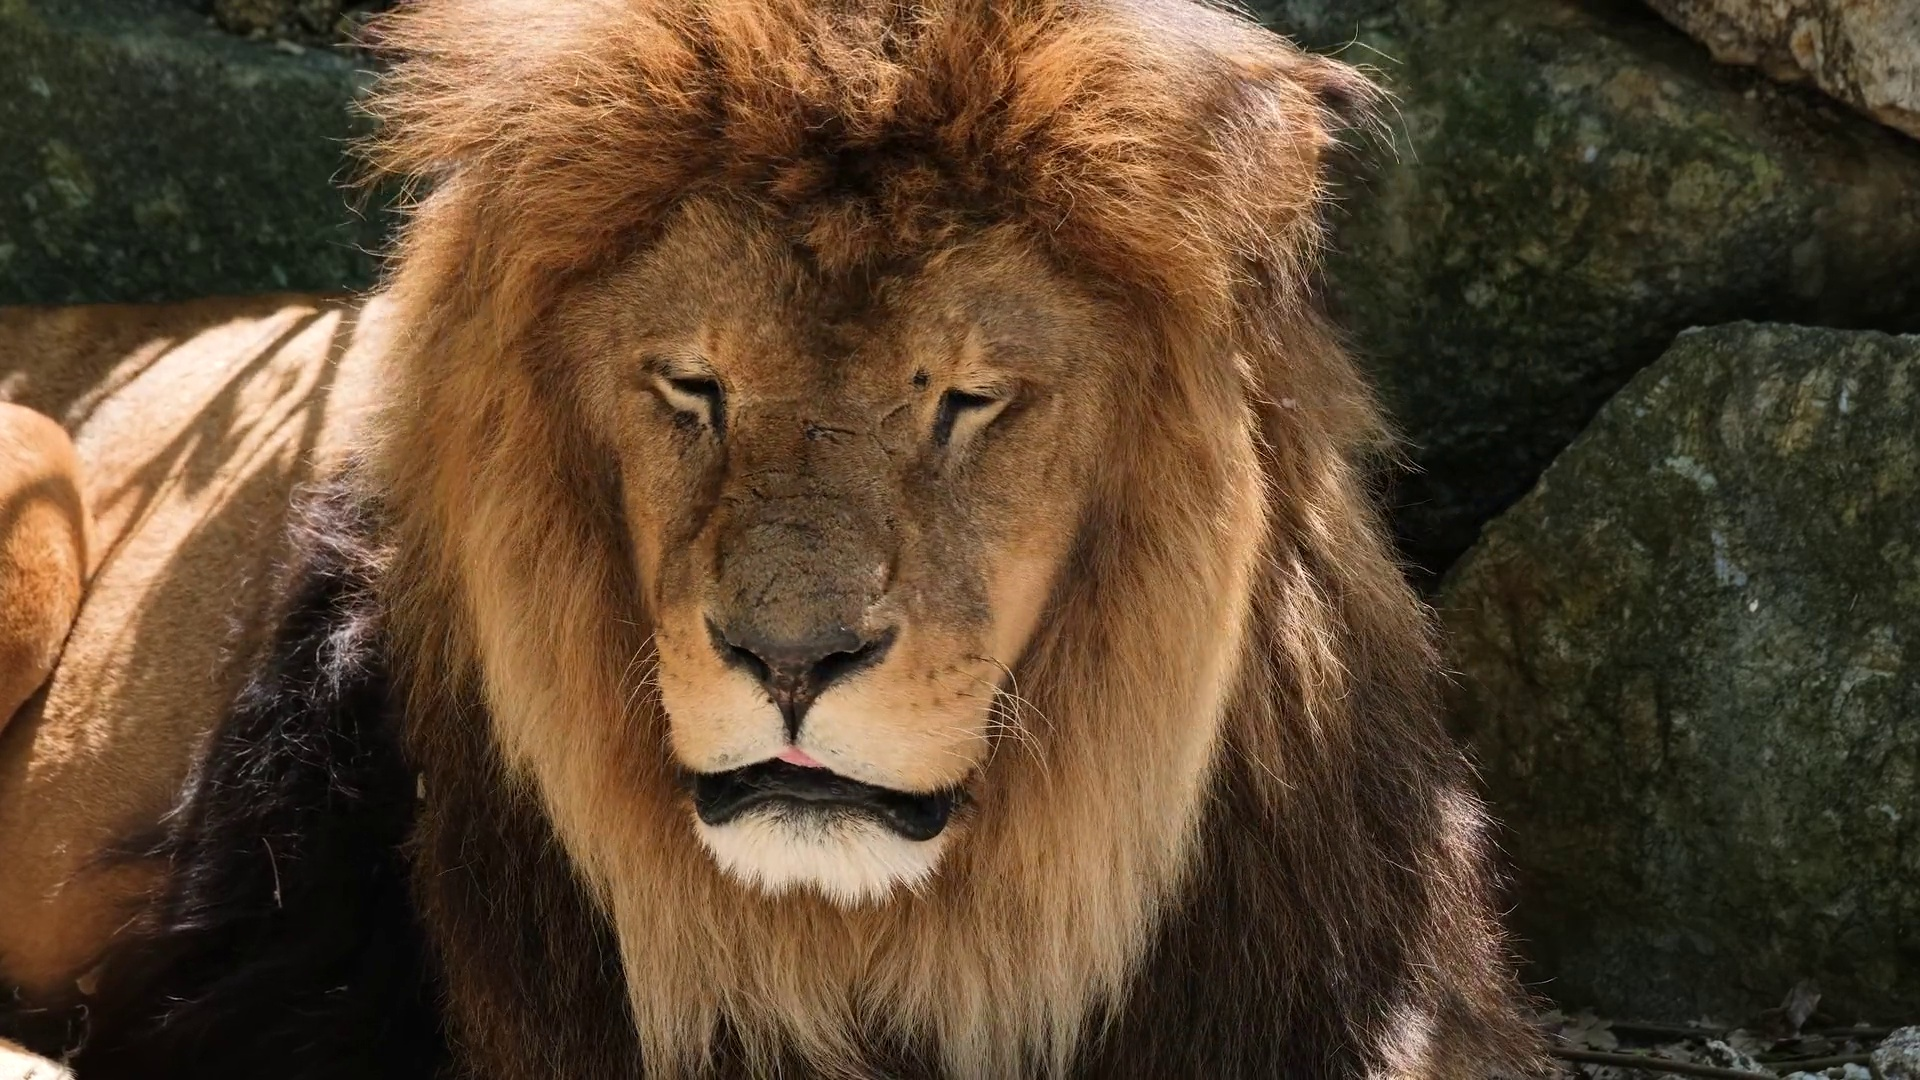Lion: (3, 4, 1549, 1080)
